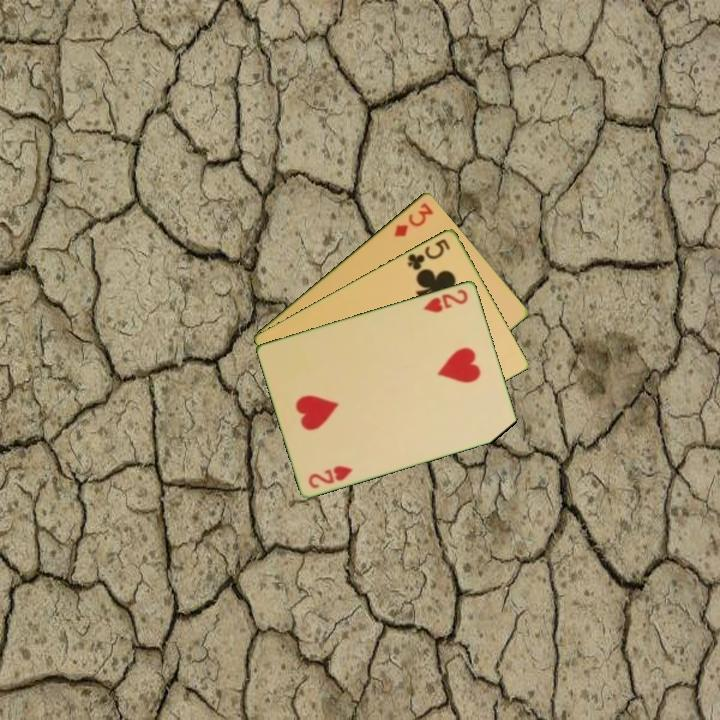2h: (420, 285, 471, 315), (305, 461, 355, 491)
3d: (390, 199, 436, 240)
5c: (404, 235, 453, 273)
